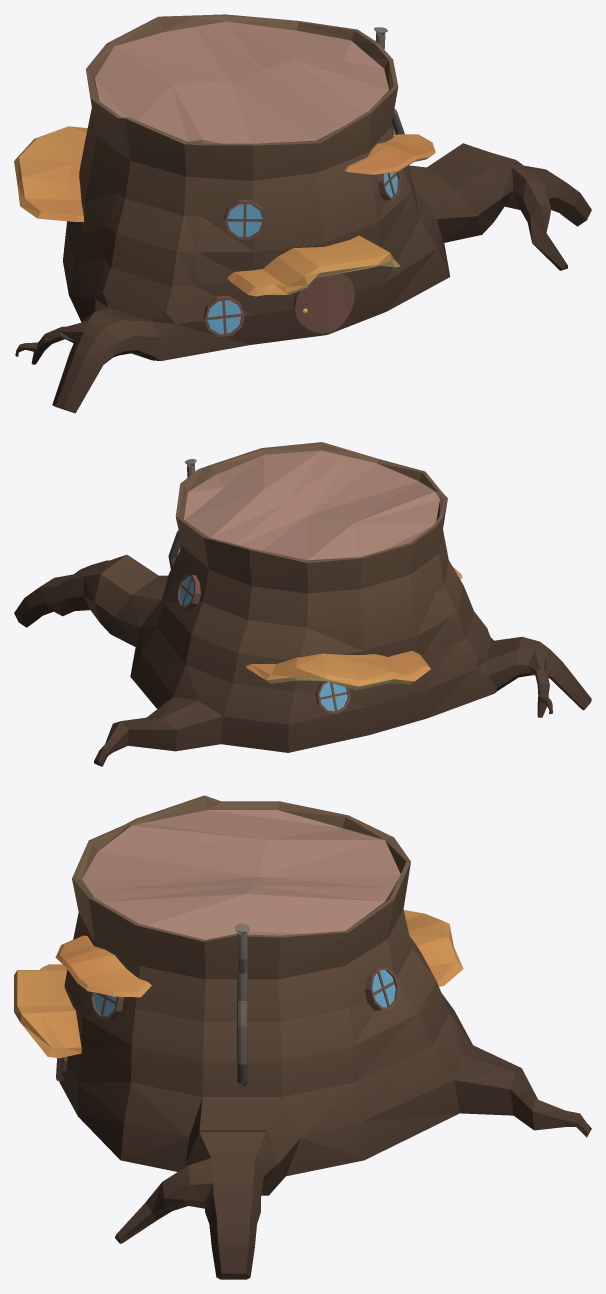
Rendered from Haus_Opa_Gicht.fbx.
3 renders of one model, top to bottom at view 1: azimuth 30°, elevation 25°; view 2: azimuth 150°, elevation 25°; view 3: azimuth 270°, elevation 25°, orthographic. The views are drawn at different scales.
Visible parts, largest first — view 1: Hous, Window.001, mid_roof, Door, lil_roof, Window.002, Window.004, Window.003; view 2: Hous, Window.001, Window.005, Window.006; view 3: Hous, mid_roof, lil_roof, Window.001, Schornstein, Window.006, Window.003.
Part boxes in pixels (left/top/right/bottom): Hous: left=15, top=14, right=591, bottom=413; Window.001: left=14, top=126, right=87, bottom=221; mid_roof: left=227, top=235, right=400, bottom=296; Door: left=293, top=273, right=354, bottom=333; lil_roof: left=345, top=134, right=435, bottom=174; Window.002: left=203, top=295, right=244, bottom=336; Window.004: left=224, top=199, right=265, bottom=239; Window.003: left=378, top=171, right=400, bottom=200; Hous: left=14, top=442, right=591, bottom=766; Window.001: left=246, top=651, right=430, bottom=690; Window.005: left=315, top=681, right=350, bottom=713; Window.006: left=177, top=574, right=200, bottom=609; Hous: left=59, top=795, right=591, bottom=1279; mid_roof: left=14, top=964, right=81, bottom=1058; lil_roof: left=55, top=935, right=151, bottom=997; Window.001: left=403, top=910, right=463, bottom=986; Schornstein: left=235, top=924, right=249, bottom=1086; Window.006: left=365, top=967, right=399, bottom=1010; Window.003: left=90, top=992, right=123, bottom=1019.
Bounding box in the file's own units: 2077 × 797 × 1624.
